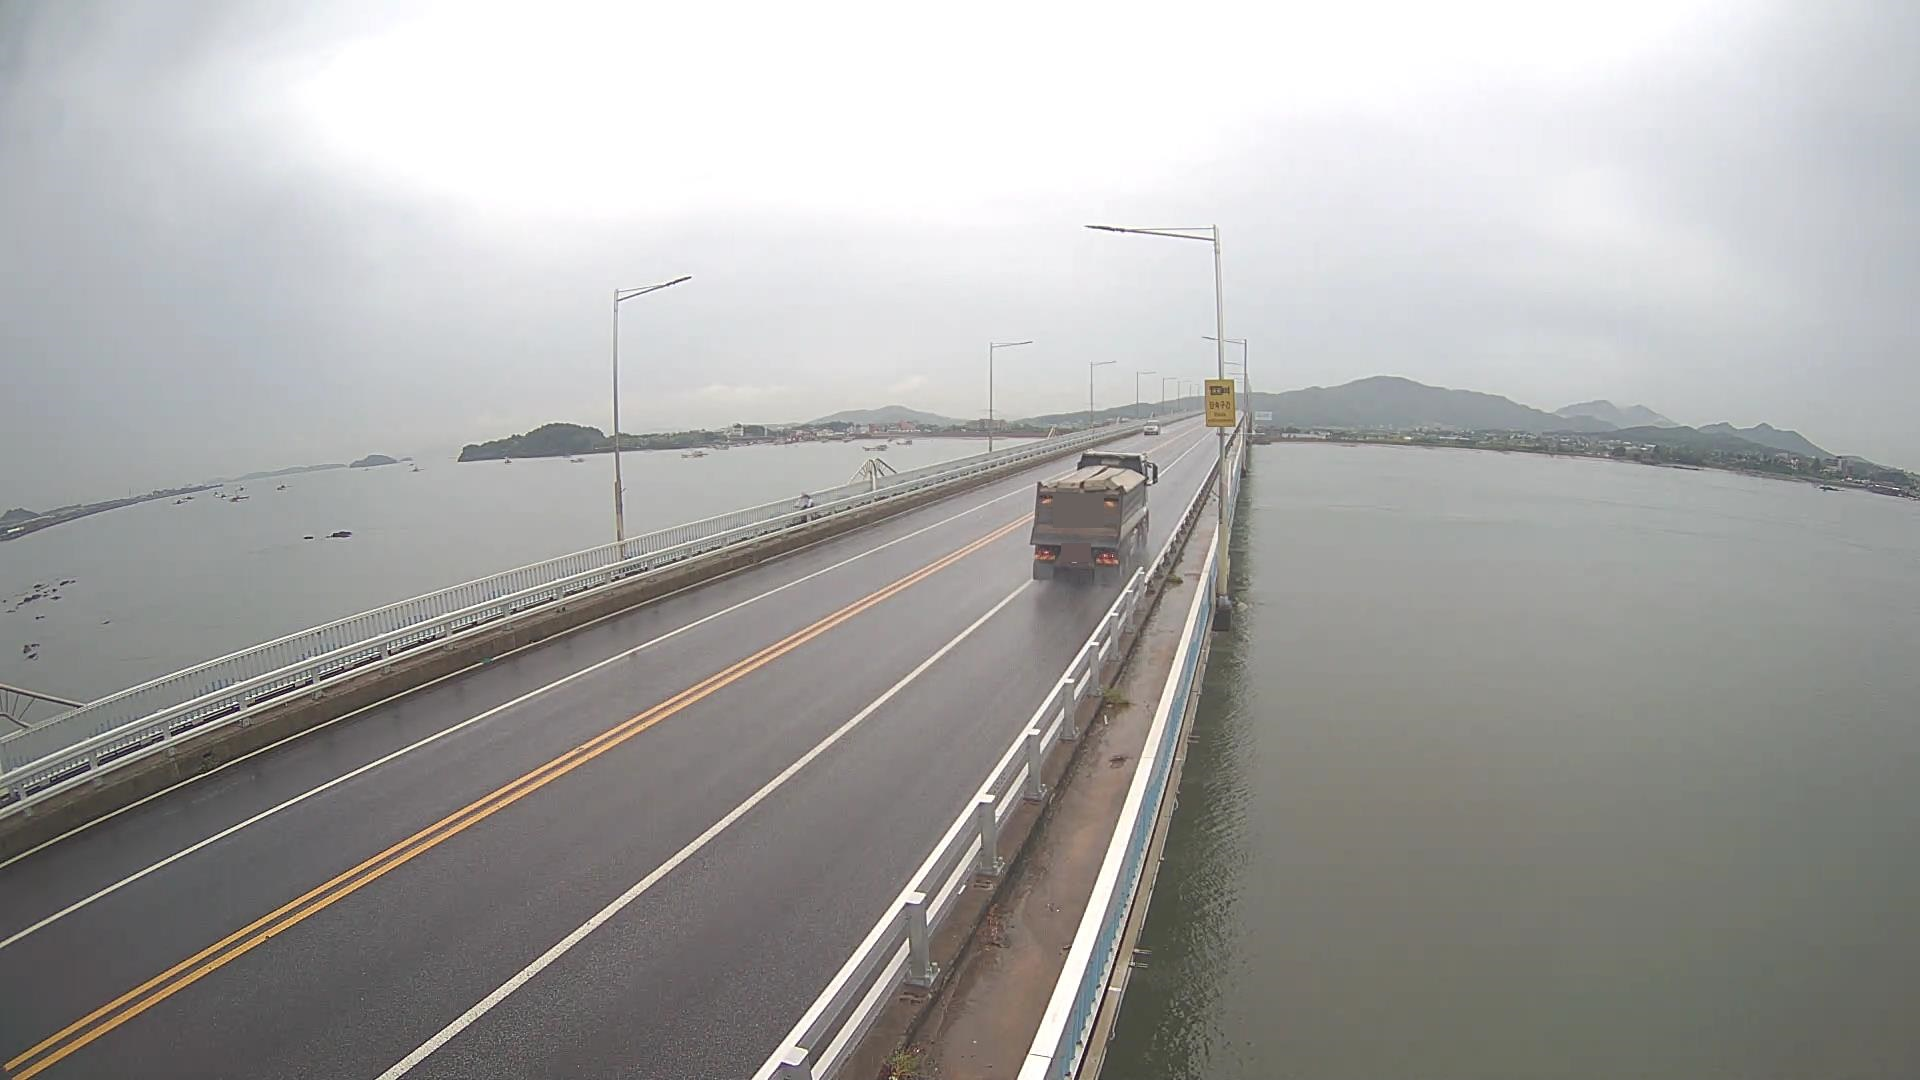정상차량: (1031, 450, 1158, 586)
